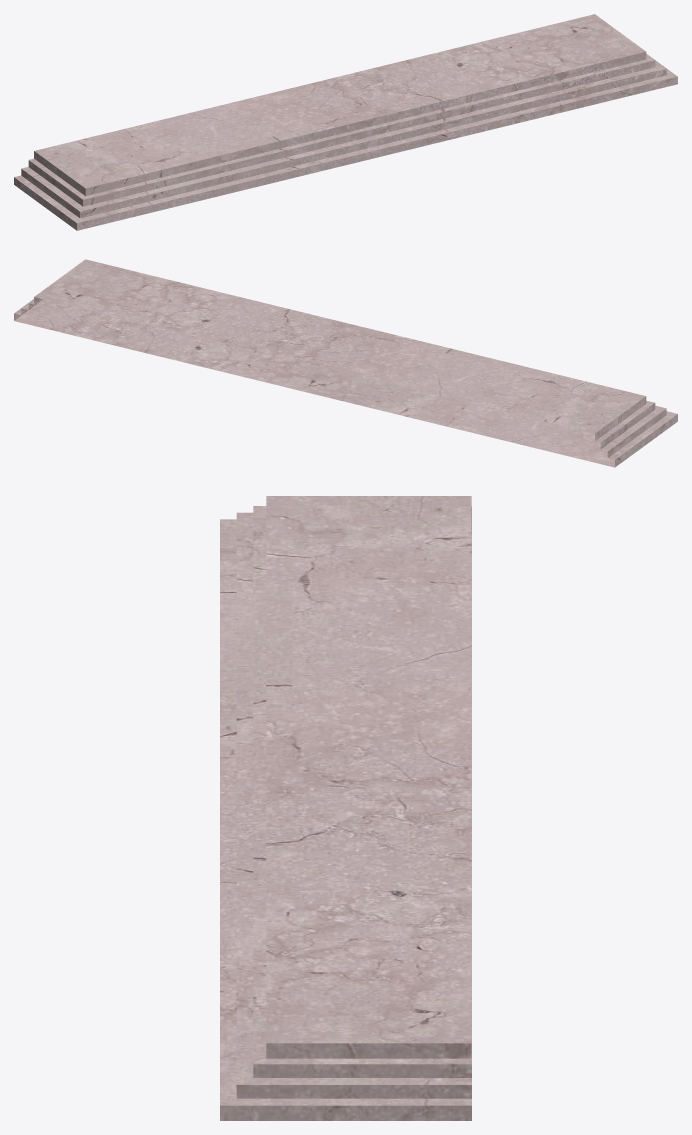
Rendered from pasted__marble_tiles_pink_12.fbx.
3 views of the same model, one above another, from view 1: azimuth 30°, elevation 25°; view 2: azimuth 150°, elevation 25°; view 3: azimuth 270°, elevation 25° (orthographic). The views are drawn at different scales.
Visible parts, largest first — view 1: pasted__marble_tiles_pink_12; view 2: pasted__marble_tiles_pink_12; view 3: pasted__marble_tiles_pink_12.
Part boxes in pixels (x1,y1,x2,y2): pasted__marble_tiles_pink_12: (14,14,677,230); pasted__marble_tiles_pink_12: (14,259,677,467); pasted__marble_tiles_pink_12: (220,496,471,1120).
Size of the model in its own units: 206 by 37.41 by 9.48.
